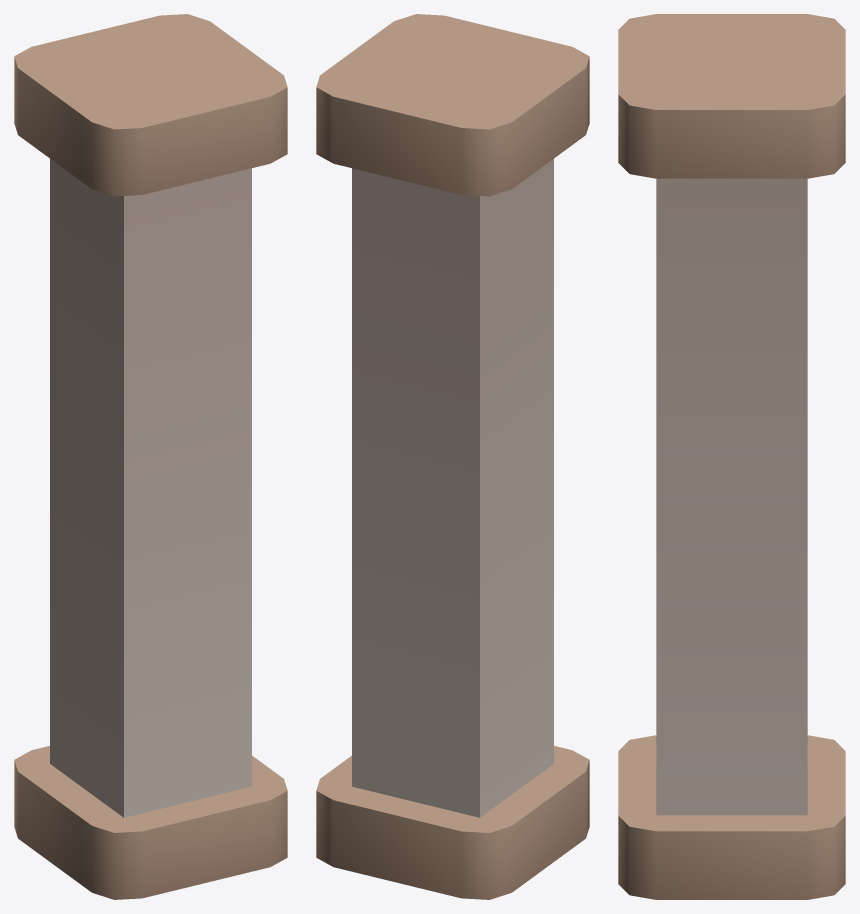
Rendered from column-square.glb.
The picture shows the model from 3 angles, left to right: view 1: azimuth 30°, elevation 25°; view 2: azimuth 150°, elevation 25°; view 3: azimuth 270°, elevation 25°; orthographic projection. The views are drawn at different scales.
Visible parts, largest first — view 1: column-square; view 2: column-square; view 3: column-square.
Boxes of the visible parts, left/top/right/bottom form: column-square: left=14, top=14, right=287, bottom=899; column-square: left=316, top=14, right=589, bottom=899; column-square: left=618, top=14, right=845, bottom=899.
Size of the model in its own units: 0.6 by 2.3 by 0.6.
